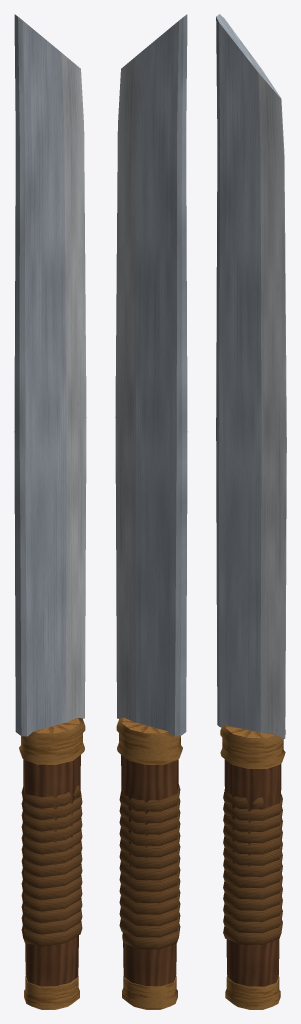
The model's file is thai-sword-07.glb.
3 renders of one model, left to right at view 1: azimuth 30°, elevation 25°; view 2: azimuth 150°, elevation 25°; view 3: azimuth 330°, elevation 25°, orthographic.
Visible parts, largest first — view 1: Blade, Handle Wrap, Handle, Metal Fittings; view 2: Blade, Handle Wrap, Handle, Metal Fittings; view 3: Blade, Handle Wrap, Handle, Metal Fittings.
Boxes of the visible parts, box(x1,y1,x2,y2) form: Blade: box(14, 14, 86, 736); Handle Wrap: box(21, 785, 82, 946); Handle: box(23, 755, 80, 986); Metal Fittings: box(19, 718, 85, 1009); Blade: box(115, 14, 187, 736); Handle Wrap: box(119, 784, 180, 949); Handle: box(121, 755, 178, 986); Metal Fittings: box(116, 718, 182, 1009); Blade: box(216, 14, 286, 738); Handle Wrap: box(223, 789, 282, 944); Handle: box(224, 759, 281, 986); Metal Fittings: box(220, 725, 285, 1009).
Size of the model in its own units: 0.09 by 1.22 by 0.0627.
Materials: 5 (5 with a texture image).
